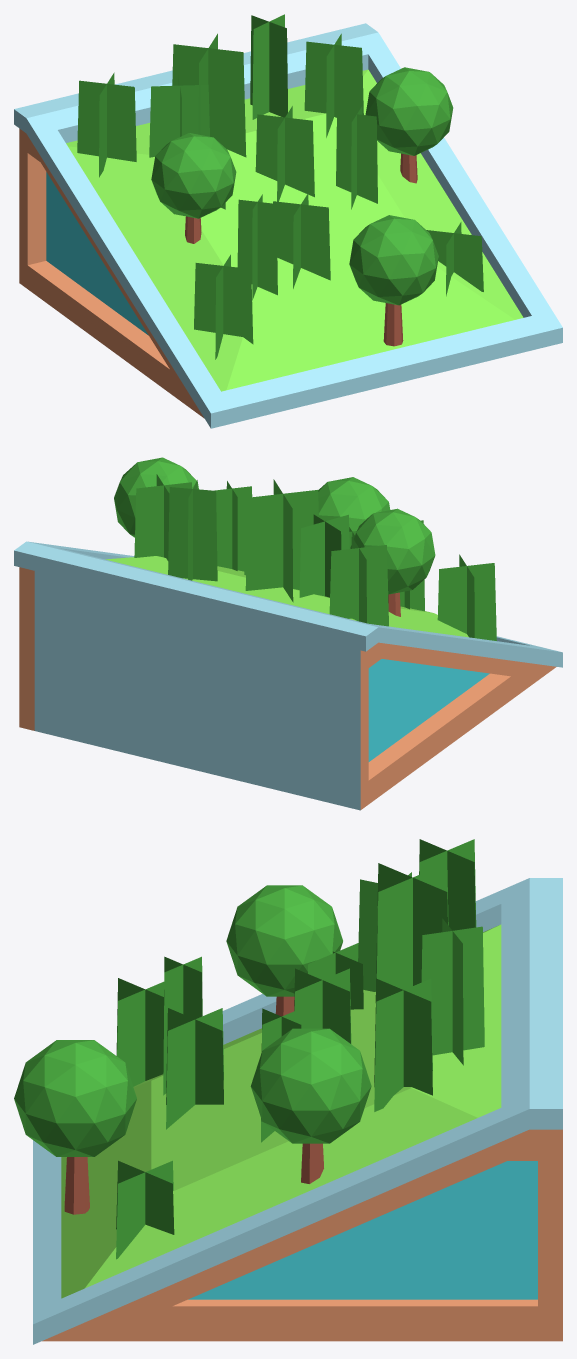
Rendered from 3d_icons_groen_dak.fbx.
3 renders of one model, top to bottom at view 1: azimuth 30°, elevation 25°; view 2: azimuth 150°, elevation 25°; view 3: azimuth 270°, elevation 25°, orthographic. The views are drawn at different scales.
Visible parts, largest first — view 1: groen_dak; view 2: groen_dak; view 3: groen_dak.
Part boxes in pixels (x1,y1,x2,y2): groen_dak: (14, 14, 562, 428); groen_dak: (14, 457, 562, 810); groen_dak: (14, 839, 562, 1344).
Size of the model in its own units: 206 by 136 by 207.
